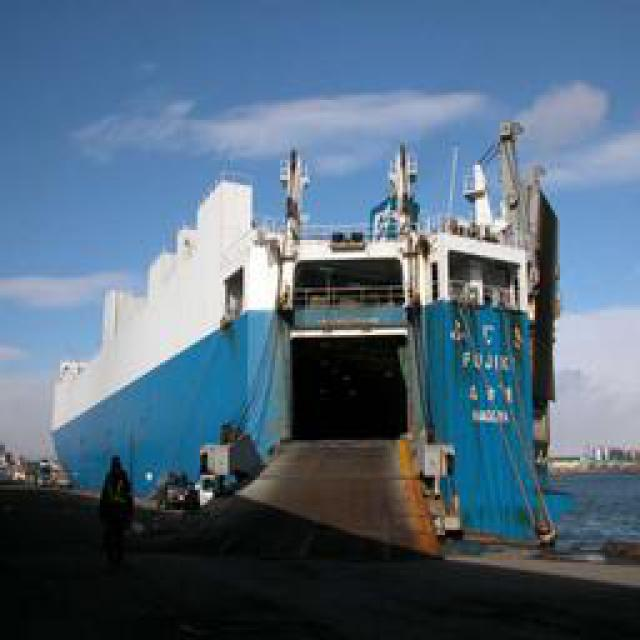Ship: (32, 107, 580, 565)
